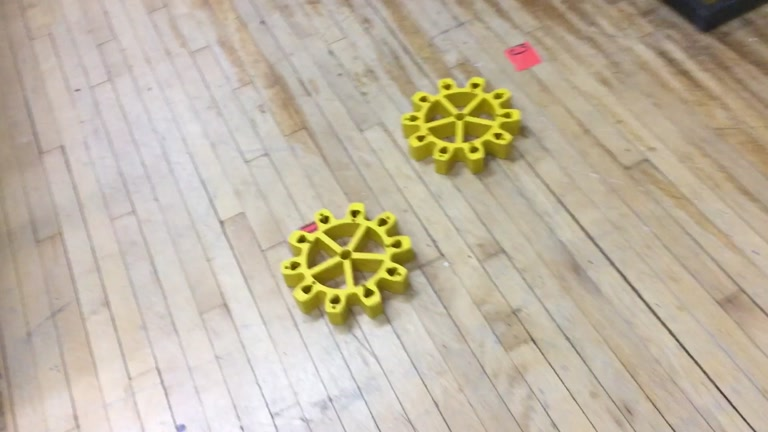gear: (280, 201, 415, 327), (400, 76, 522, 177)
